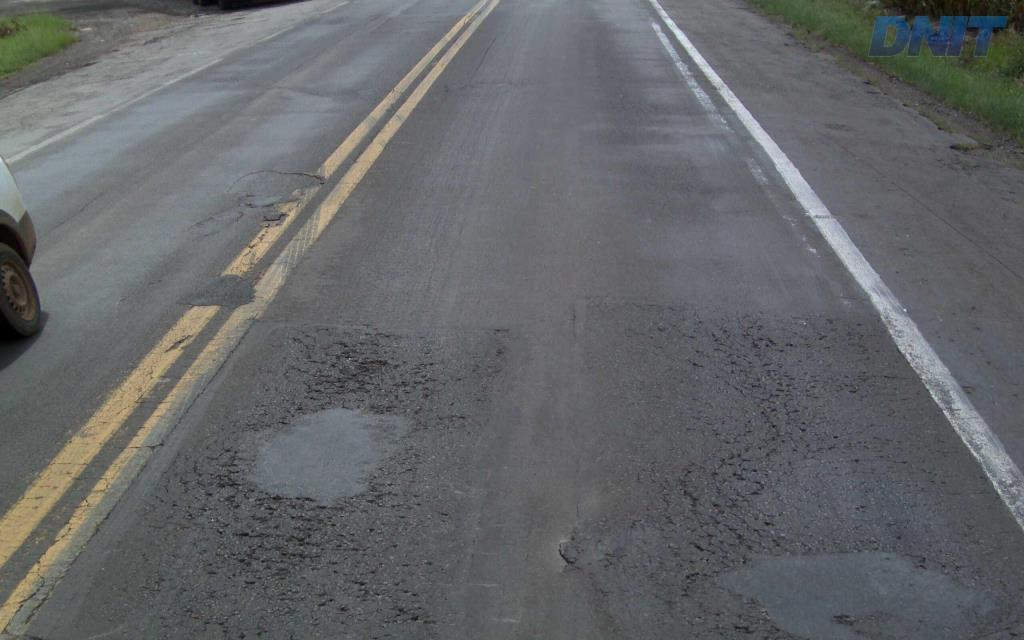crack: (214, 490, 327, 600), (303, 343, 399, 399), (207, 469, 255, 510), (383, 605, 436, 624)
